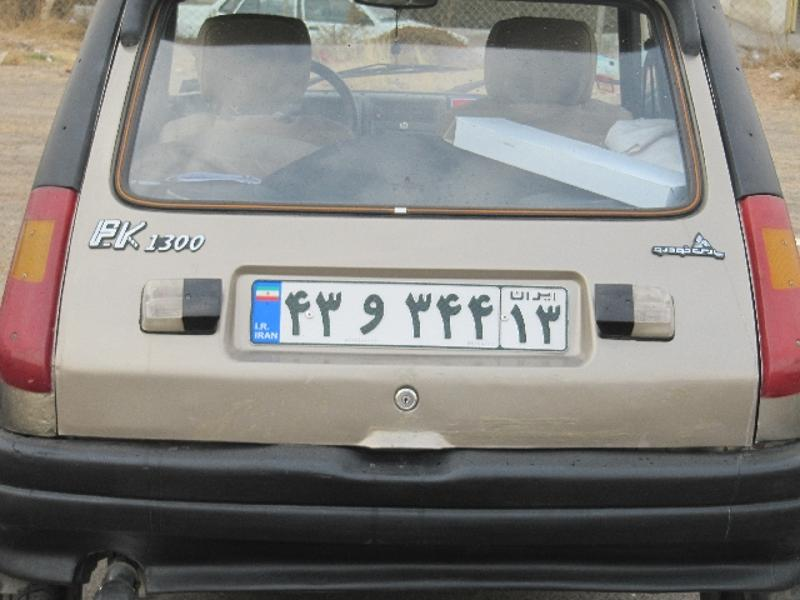Plate: (240, 269, 576, 359)
